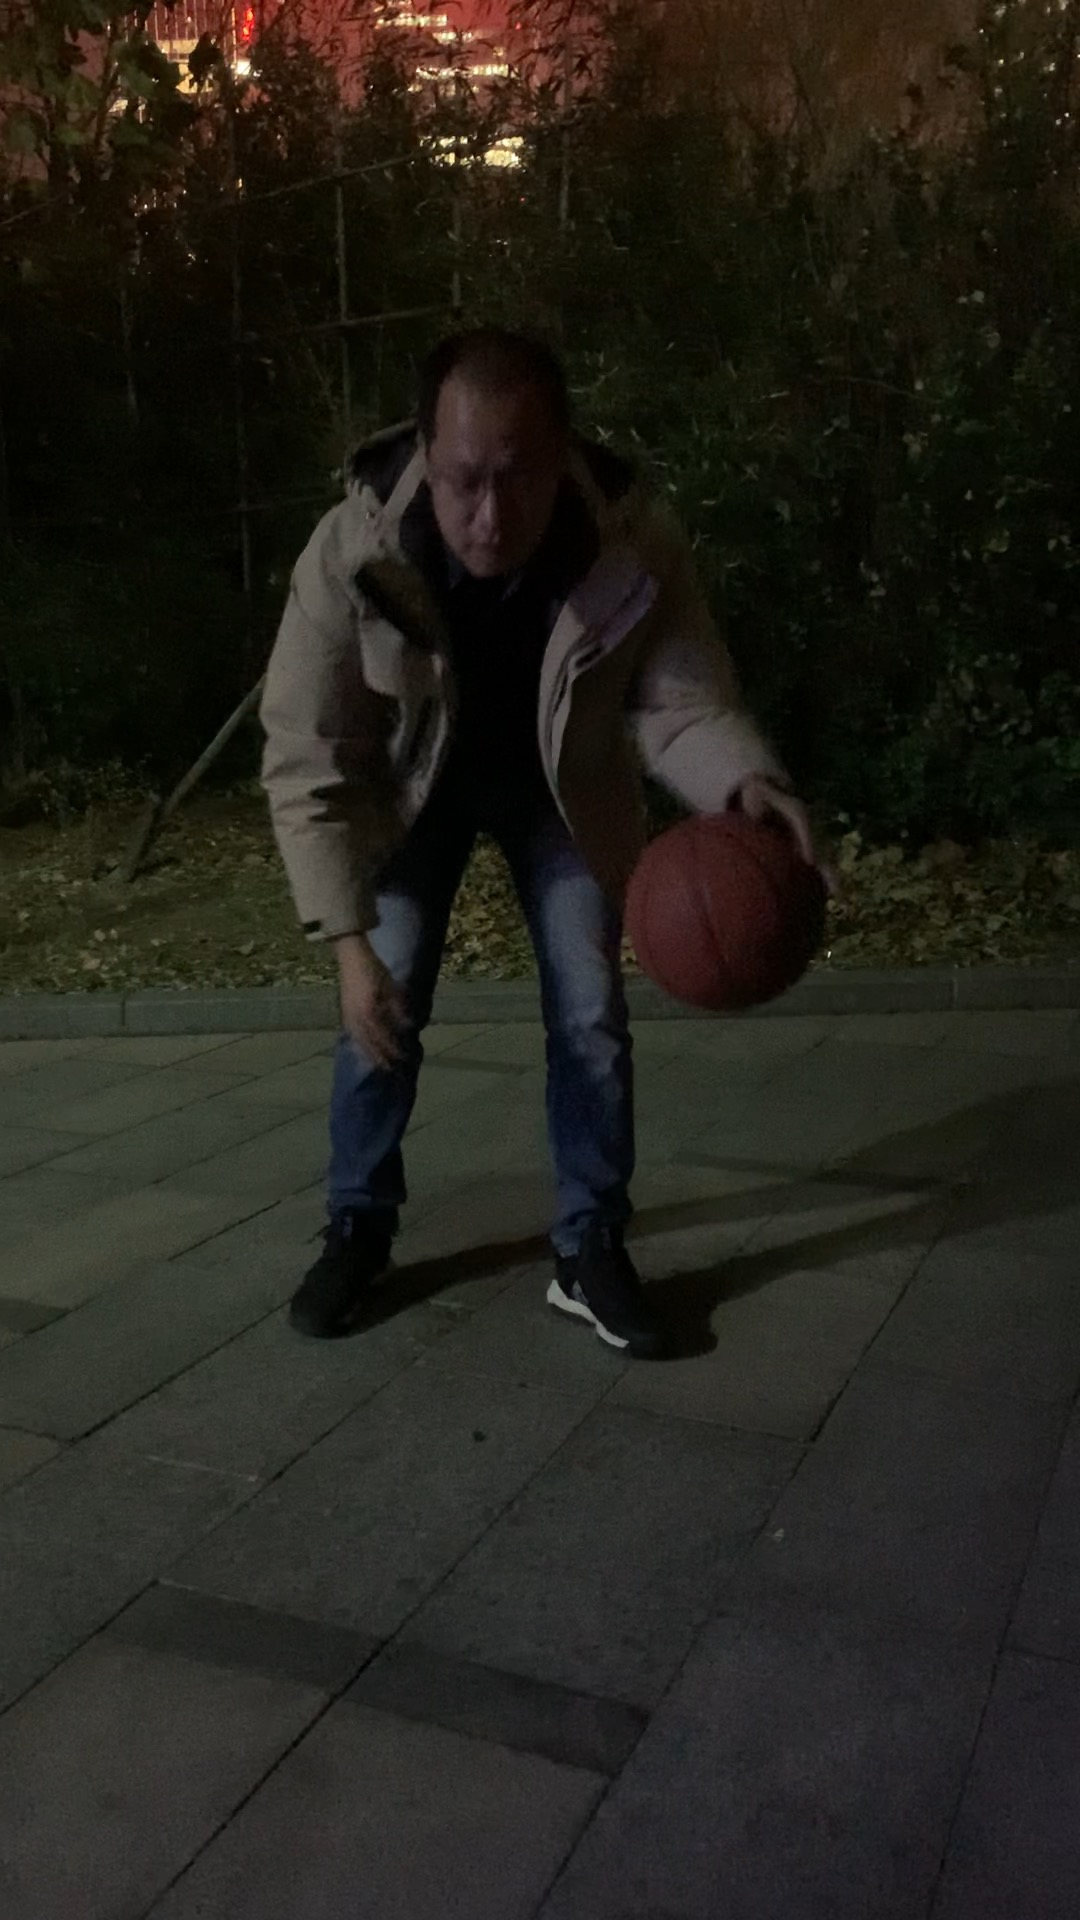ball: (620, 804, 832, 1014)
